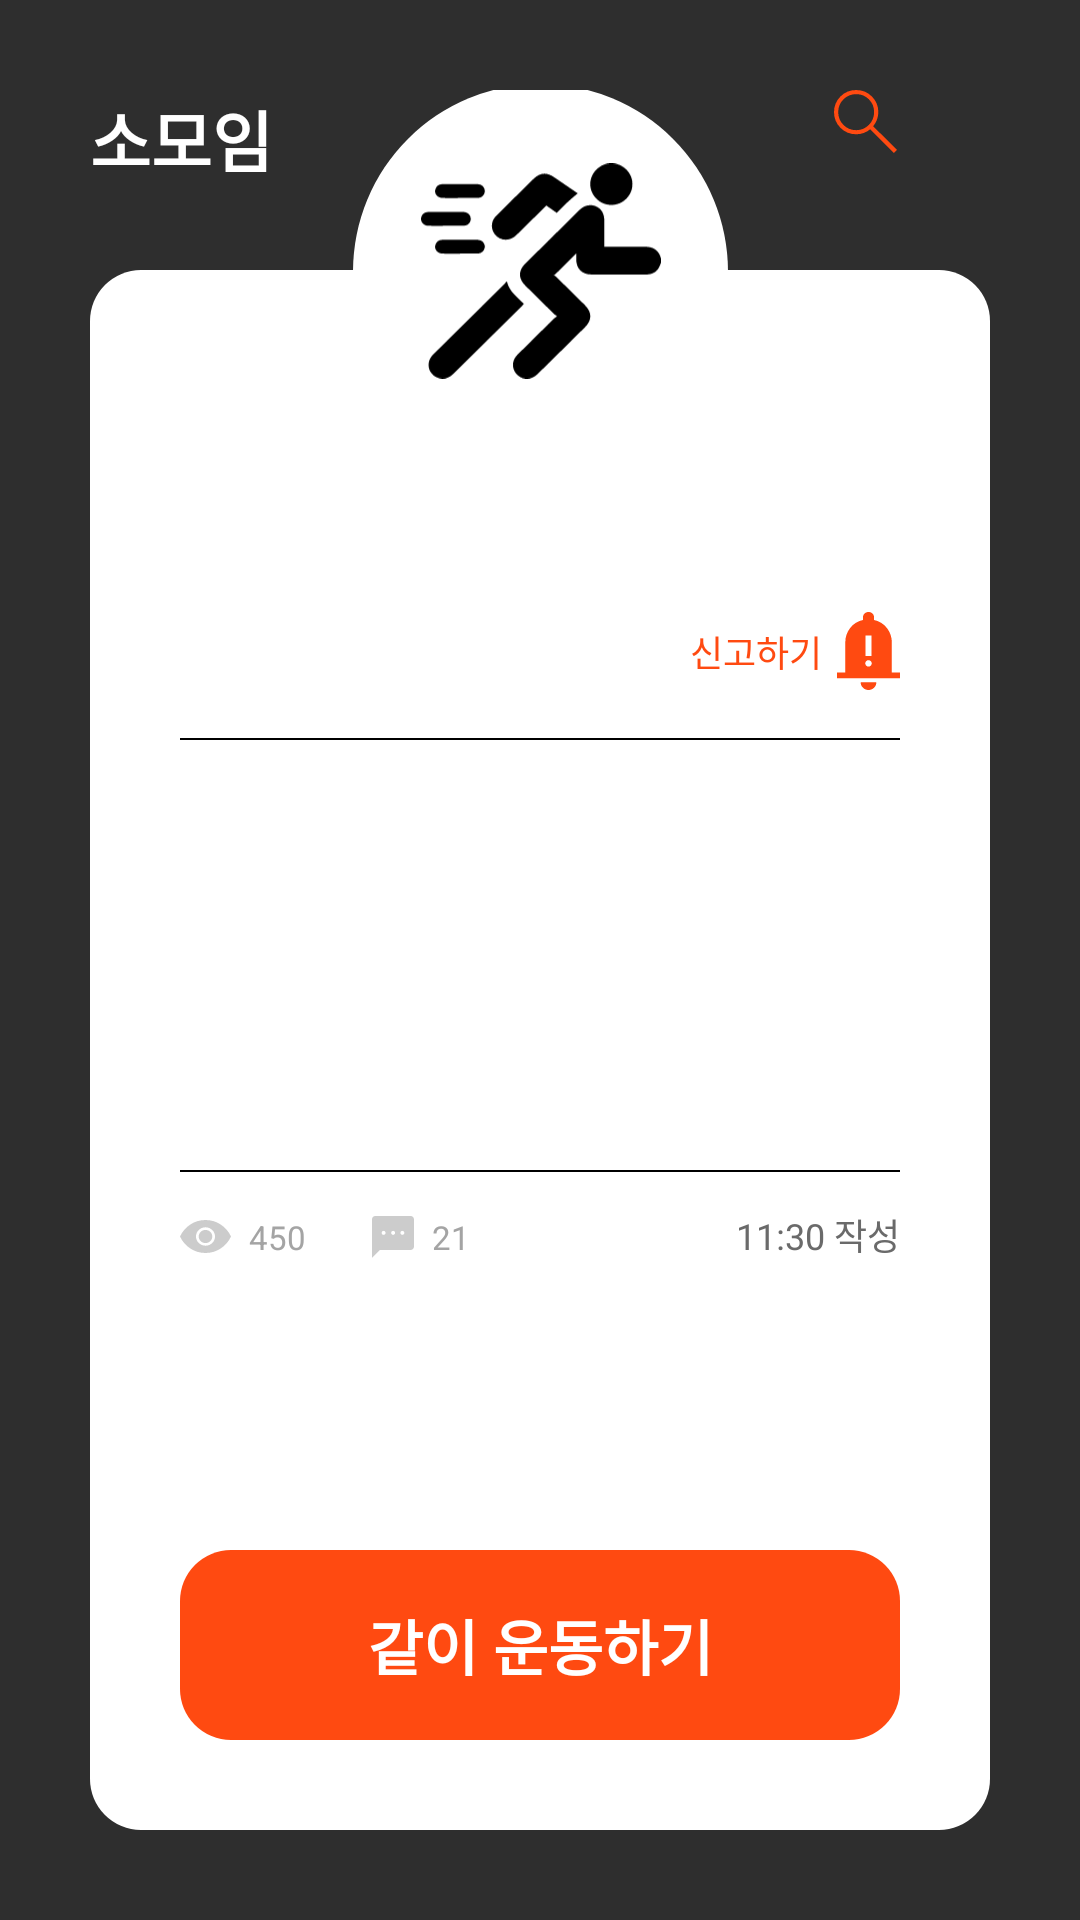

Icons on this 1080px×1920px Android screen, each with its box as box=[x1, y1, x2, y2]:
community comment: box=[372, 1216, 414, 1257]
community eye: box=[180, 1220, 231, 1253]
glass: box=[834, 90, 897, 153]
meet report: box=[837, 612, 900, 690]
